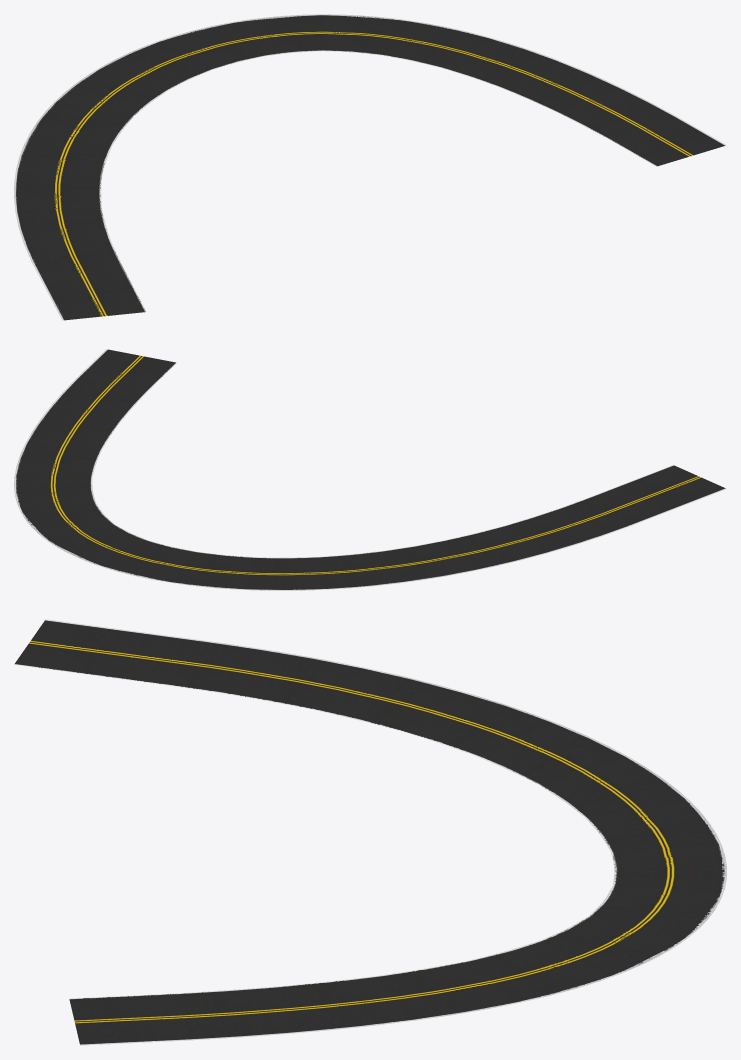
The model's file is Uroad.fbx.
The picture shows the model from 3 angles, top to bottom: view 1: azimuth 30°, elevation 25°; view 2: azimuth 150°, elevation 25°; view 3: azimuth 270°, elevation 25°; orthographic projection. The views are drawn at different scales.
Parts seen in each view (by area): view 1: Plane; view 2: Plane; view 3: Plane.
Boxes of the visible parts, x1,y1,x2,y2 form: Plane: (14,14,726,320); Plane: (14,349,726,590); Plane: (14,619,726,1045).
Size of the model in its own units: 1803 by 0.000218 by 1275.
1 material, 1 textured.
